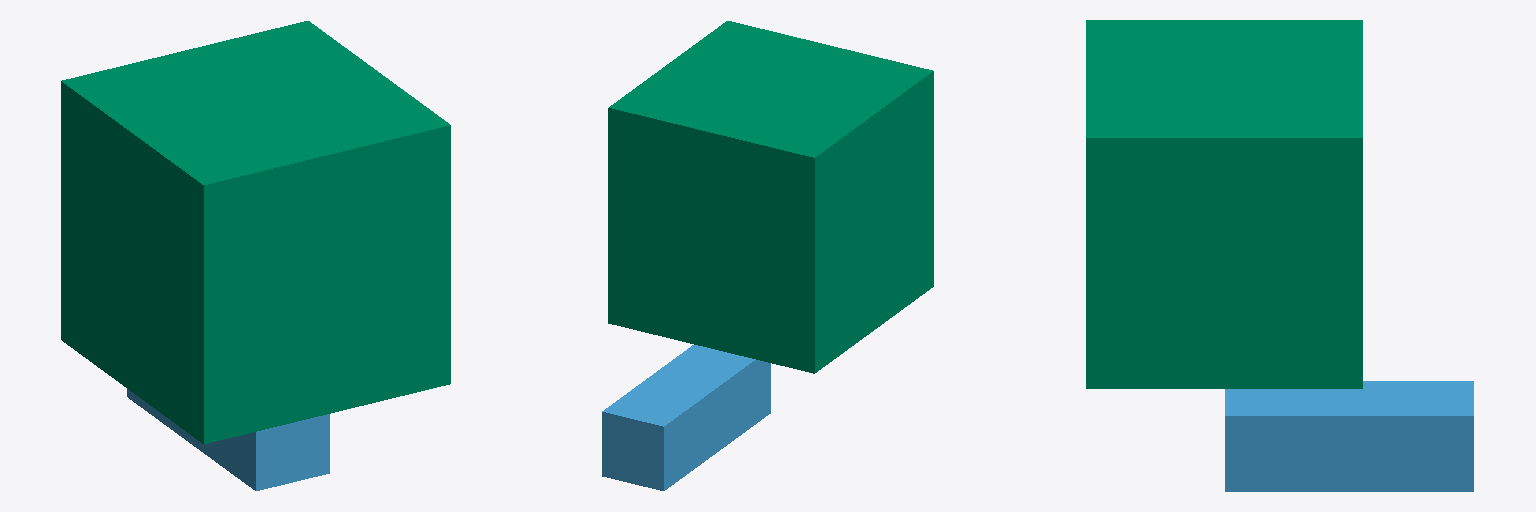
URDF robot description (robot_arm):
<?xml version="1.0"?>
<robot name = "robot_arm">

<!-- base link -->

<link name = "base_link"/>

<!-- link 1 -->
<link name = "link1">
    <visual>
    <geometry>
	<mesh filename="package://robot_description/meshes/Part1.STL" scale="0.003 0.003 0.003"/>

        <!--cylinder length="0.1" radius="0.1"/--> 
    </geometry>
    <origin xyz="0 0 0" rpy="0 0 0"/>
    </visual>

    <collision>
        <geometry>
		<mesh filename="package://robot_description/meshes/Part1.STL" scale="0.003 0.003 0.003"/>

            <!-- <cylinder length="0.1" radius="0.1"/>  -->
        </geometry>
        <origin xyz="0 0 0" rpy="0 0 0"/>
    </collision>

    <inertial>
        <origin xyz="0 0 0" rpy="0 0 0"/>
        <mass value="1"/>
        <inertia ixx="0.001" ixy="0" ixz= "0" iyy="0.001" iyz="0" izz="0.001"/>
    </inertial>
</link>

<!--joint1-->
<joint name="joint1" type="revolute">
    <parent link="base_link"/>
    <child link="link1"/>
    <origin xyz="0 0 0" rpy="0 0 0"/>
    <axis xyz="0 0 1" />
    <limit lower="-3.1416" upper="3.1416" effort="100" velocity="1"/>
</joint>

<!-- link 2 -->
<link name = "link2">
    <visual>
    <geometry>
        <box size="0.1 0.1 0.1"/> 
    </geometry>
    <origin xyz="0 0 0" rpy="0 0 0"/>
    </visual>

    <collision>
    <geometry>
            <box size="0.1 0.1 0.1"/> 
    </geometry>
    <origin xyz="0 0 0" rpy="0 0 0"/>
    </collision>

    <inertial>
        <origin xyz="0 0 0" rpy="0 0 0"/>
        <mass value="1"/>
        <inertia ixx="0.001" ixy="0" ixz= "0" iyy="0.001" iyz="0" izz="0.001"/>
    </inertial>
</link>

<!--joint2-->
<joint name="joint2" type="prismatic">
    <parent link="link1"/>
    <child link="link2"/>
    <origin xyz="0 0 0.1" rpy="0 0 0"/>
    <axis xyz="0 1 0 " />
    <limit lower="-0.2" upper="0.2" effort="100" velocity="1"/>
</joint>

</robot>

--- What the picture shows (computed from the rendered views, not written in the file) ---
The picture shows the robot from 3 angles, left to right: view 1: azimuth 30°, elevation 25°; view 2: azimuth 150°, elevation 25°; view 3: azimuth 270°, elevation 25°; orthographic projection.
Robot: robot_arm — 3 links, 2 joints (1 revolute, 1 prismatic); root link base_link; default pose: all joints at 0.
Visible links, largest first — view 1: link2, link1; view 2: link2, link1; view 3: link2, link1.
Boxes of the visible links, bbox=[...] form: link2: bbox=[61, 21, 450, 443]; link1: bbox=[127, 389, 329, 490]; link2: bbox=[608, 21, 933, 373]; link1: bbox=[602, 345, 770, 490]; link2: bbox=[1086, 20, 1362, 388]; link1: bbox=[1225, 381, 1473, 491].
Size in the robot's own frame: 0.1 by 0.14 by 0.15 metres.
1 mesh visuals loaded from 1 distinct referenced files (1 binary STL).
